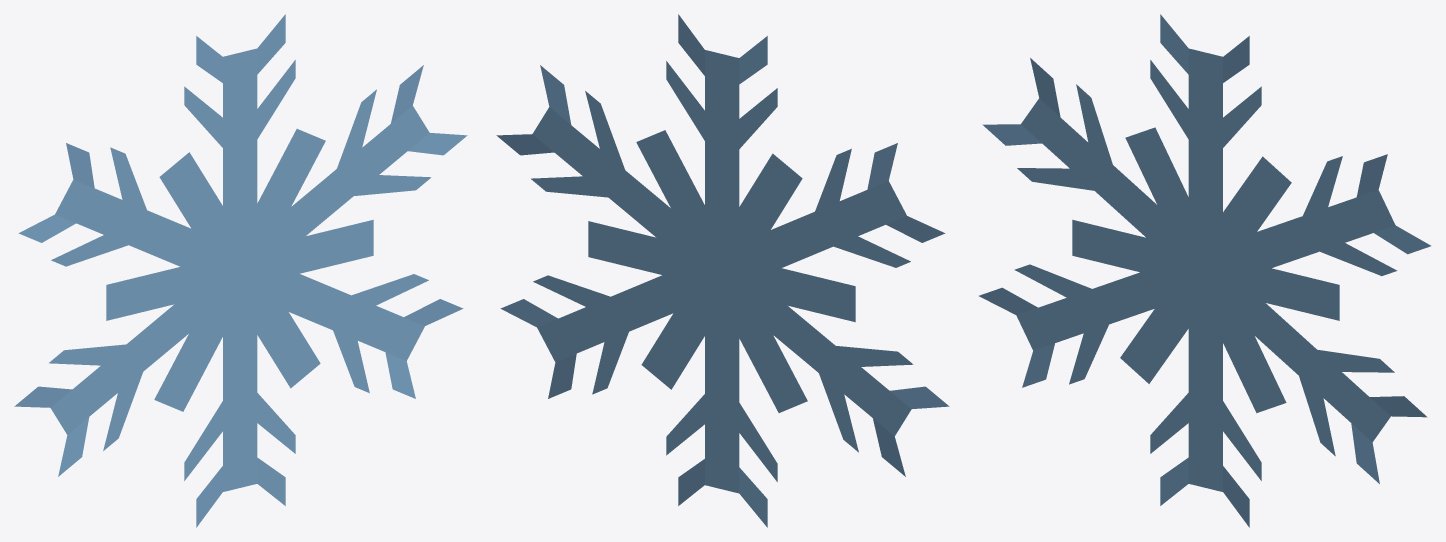
File: Snöflinga.fbx
3 views of the same model, side by side, from view 1: azimuth 30°, elevation 25°; view 2: azimuth 150°, elevation 25°; view 3: azimuth 330°, elevation 25° (orthographic).
Parts seen in each view (by area): view 1: Cube.282; view 2: Cube.282; view 3: Cube.282.
Boxes of the visible parts, x1=… form: Cube.282: x1=14, y1=14, x2=467, y2=527; Cube.282: x1=496, y1=14, x2=949, y2=527; Cube.282: x1=979, y1=14, x2=1430, y2=527.
Bounding box in the file's own units: 56.05 × 58.13 × 0.199.
